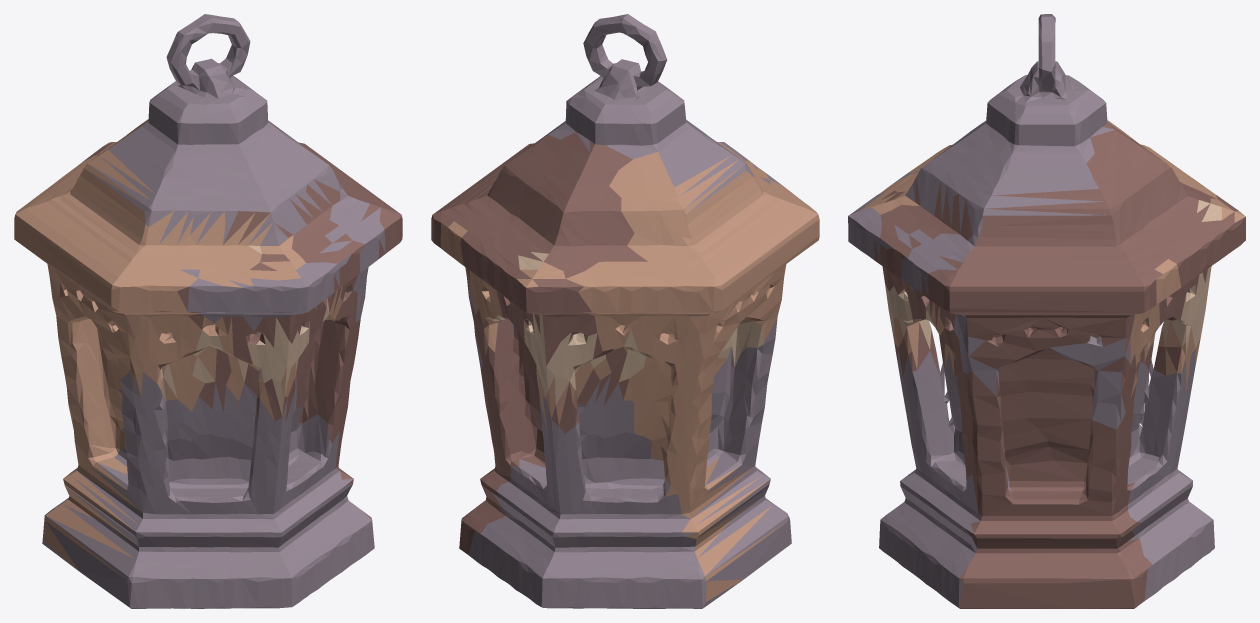
Rendered from lantern.glb.
3 views of the same model, side by side, from view 1: azimuth 30°, elevation 25°; view 2: azimuth 150°, elevation 25°; view 3: azimuth 270°, elevation 25° (orthographic).
Parts seen in each view (by area): view 1: geometry_0; view 2: geometry_0; view 3: geometry_0.
Part boxes in pixels (box(x1,y1,x2,y2)): geometry_0: box(14, 14, 402, 608); geometry_0: box(431, 14, 819, 608); geometry_0: box(848, 14, 1245, 608).
Bounding box in the file's own units: 1.14 × 1.99 × 1.34.
